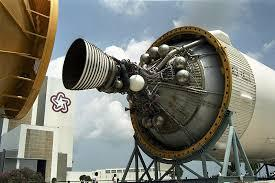body: (129, 22, 275, 162)
thruster: (60, 34, 132, 94)
